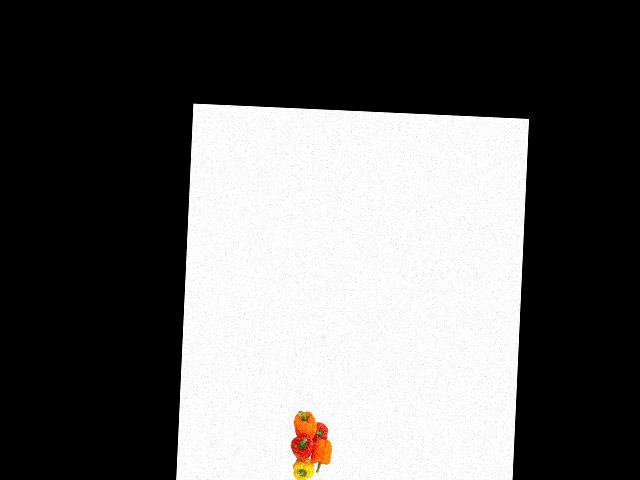bell_pepper: (290, 404, 319, 440)
